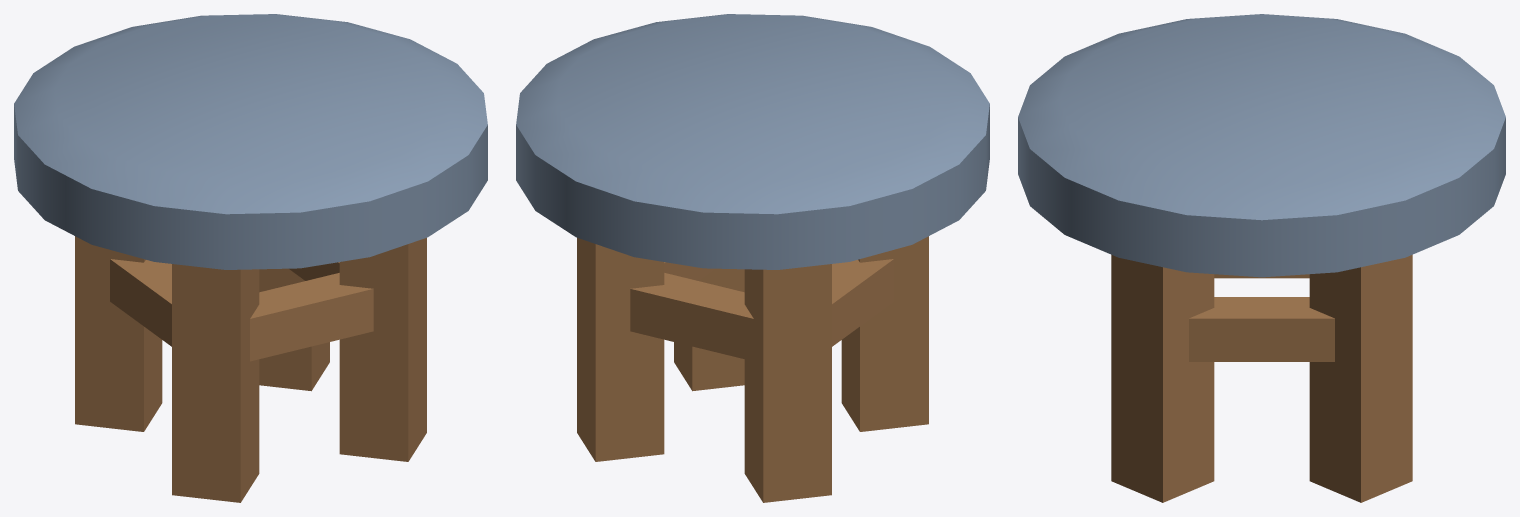
File: sushi-Environment_Stool.glb
The picture shows the model from 3 angles, left to right: view 1: azimuth 30°, elevation 25°; view 2: azimuth 150°, elevation 25°; view 3: azimuth 270°, elevation 25°; orthographic projection. The views are drawn at different scales.
Visible parts, largest first — view 1: Environment_Stool; view 2: Environment_Stool; view 3: Environment_Stool.
Part boxes in pixels (left/top/right/bottom): Environment_Stool: left=14, top=14, right=487, bottom=502; Environment_Stool: left=516, top=14, right=989, bottom=502; Environment_Stool: left=1018, top=14, right=1505, bottom=502.
Size of the model in its own units: 1.14 by 0.8765 by 1.14.
Materials: 1 (1 with a texture image).
